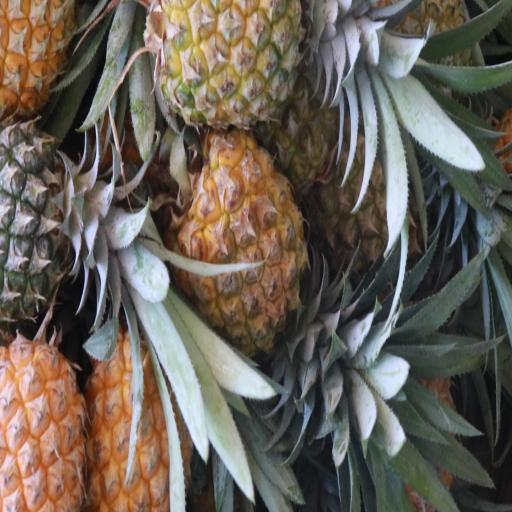------------------------------: (314, 122, 418, 272)
Pineapple - v8 v1: (175, 128, 310, 357), (87, 334, 193, 512), (156, 0, 305, 124), (0, 338, 85, 509)
